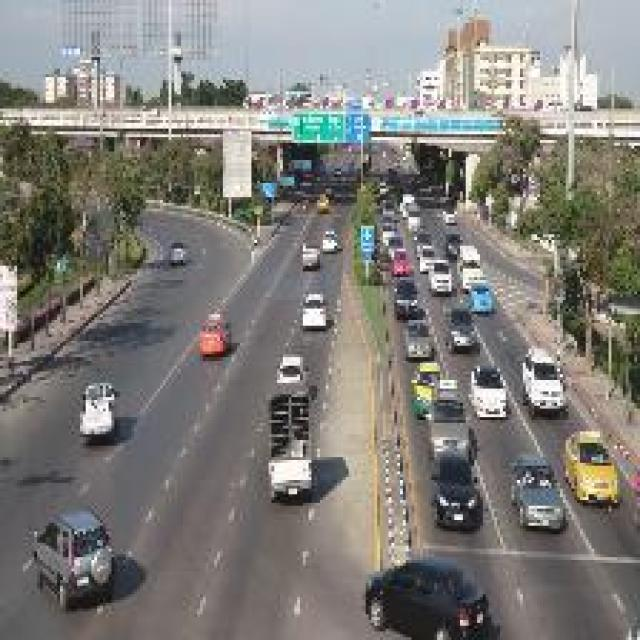other: (565, 423, 629, 512), (178, 296, 228, 356)
